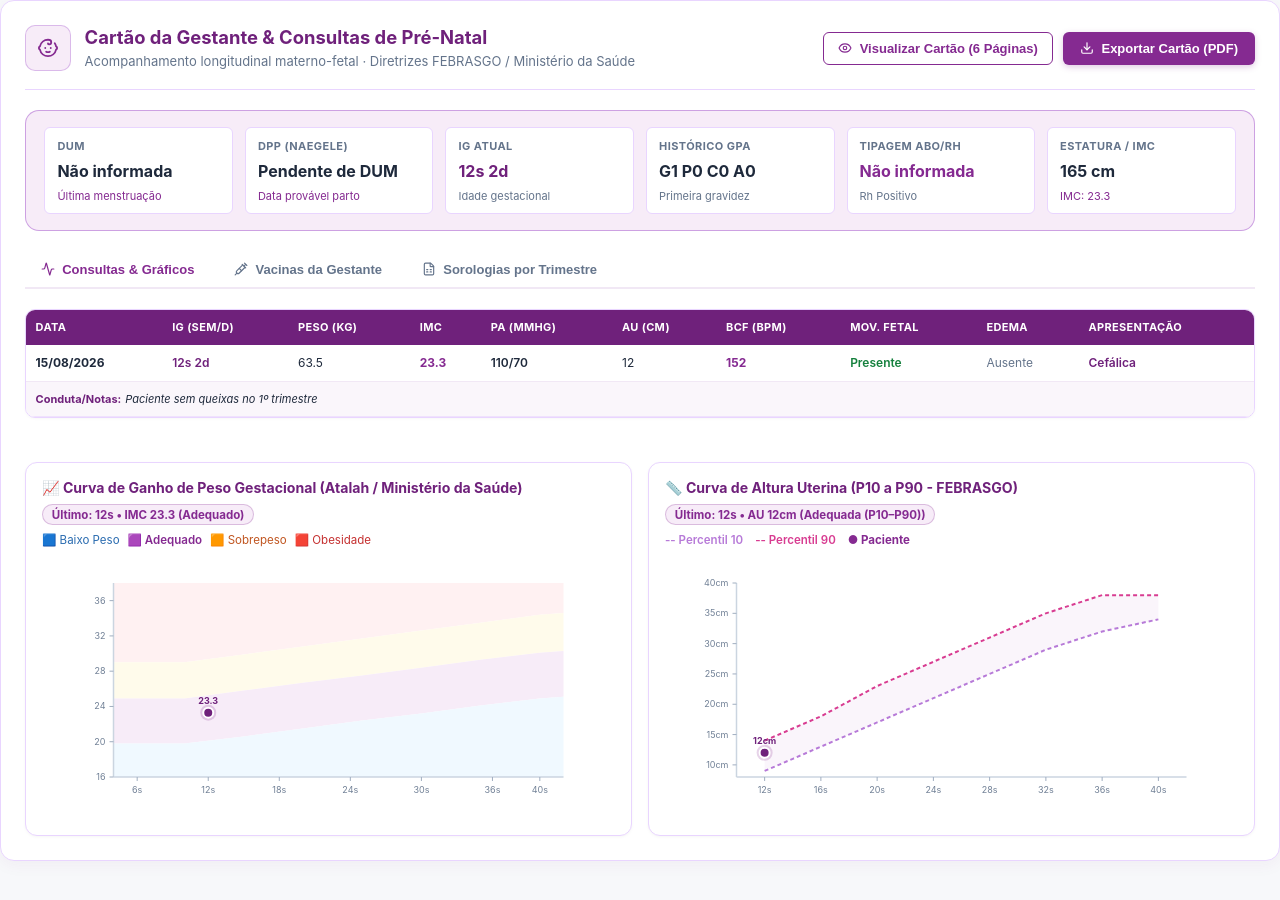
Scenario: PrenatalCardSection Component (SPEC-0035 / RN-007 / GO) › permite registrar novo exame complementar e editar resultados de exames na aba Sorologias
# Alterna para Sorologias
Click the button "Sorologias por Trimestre" at (510, 270), box [406,251,613,289]
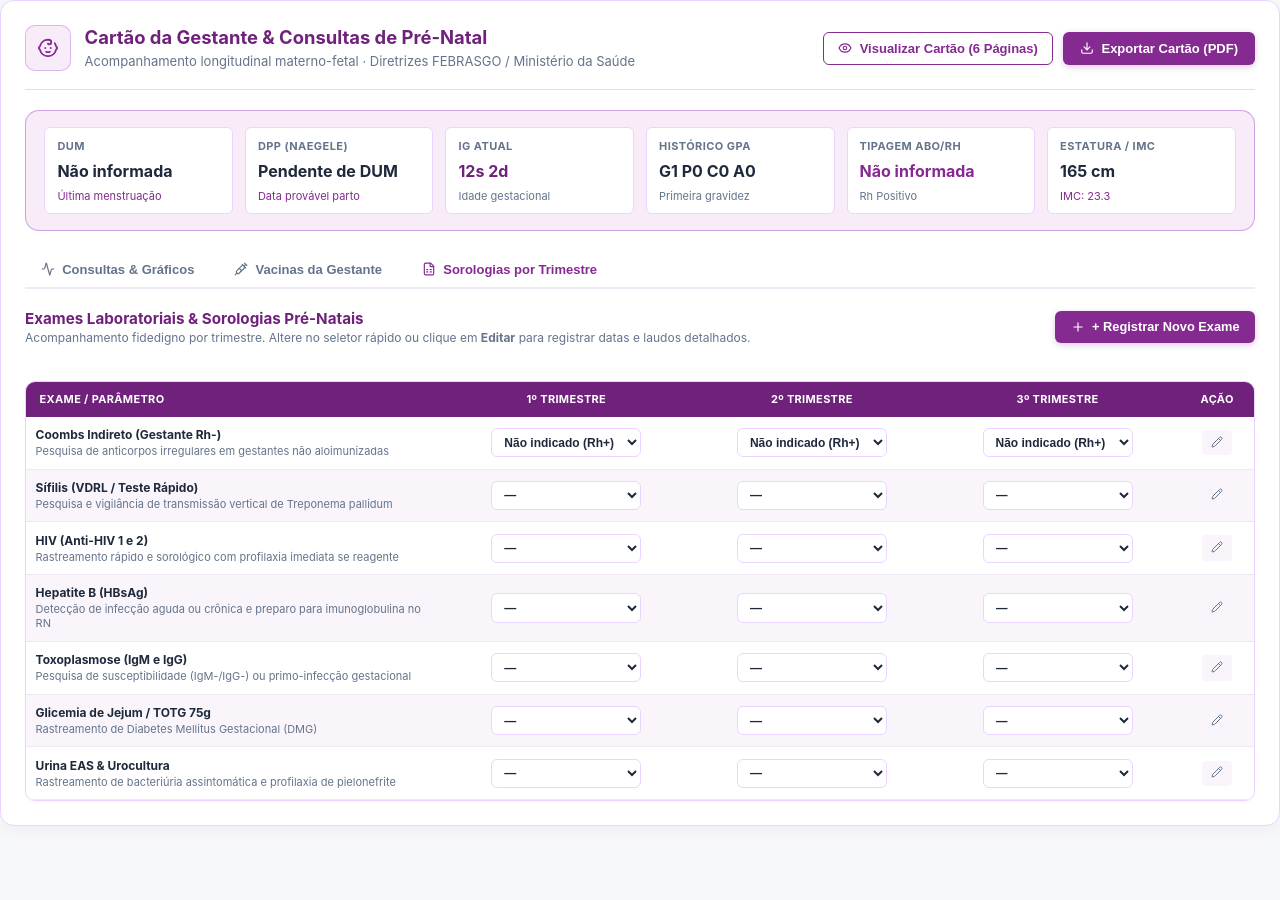
Check: the button "+ Registrar Novo Exame" is shown
Click the button "+ Registrar Novo Exame" at (1155, 327), box [1055,311,1255,343]
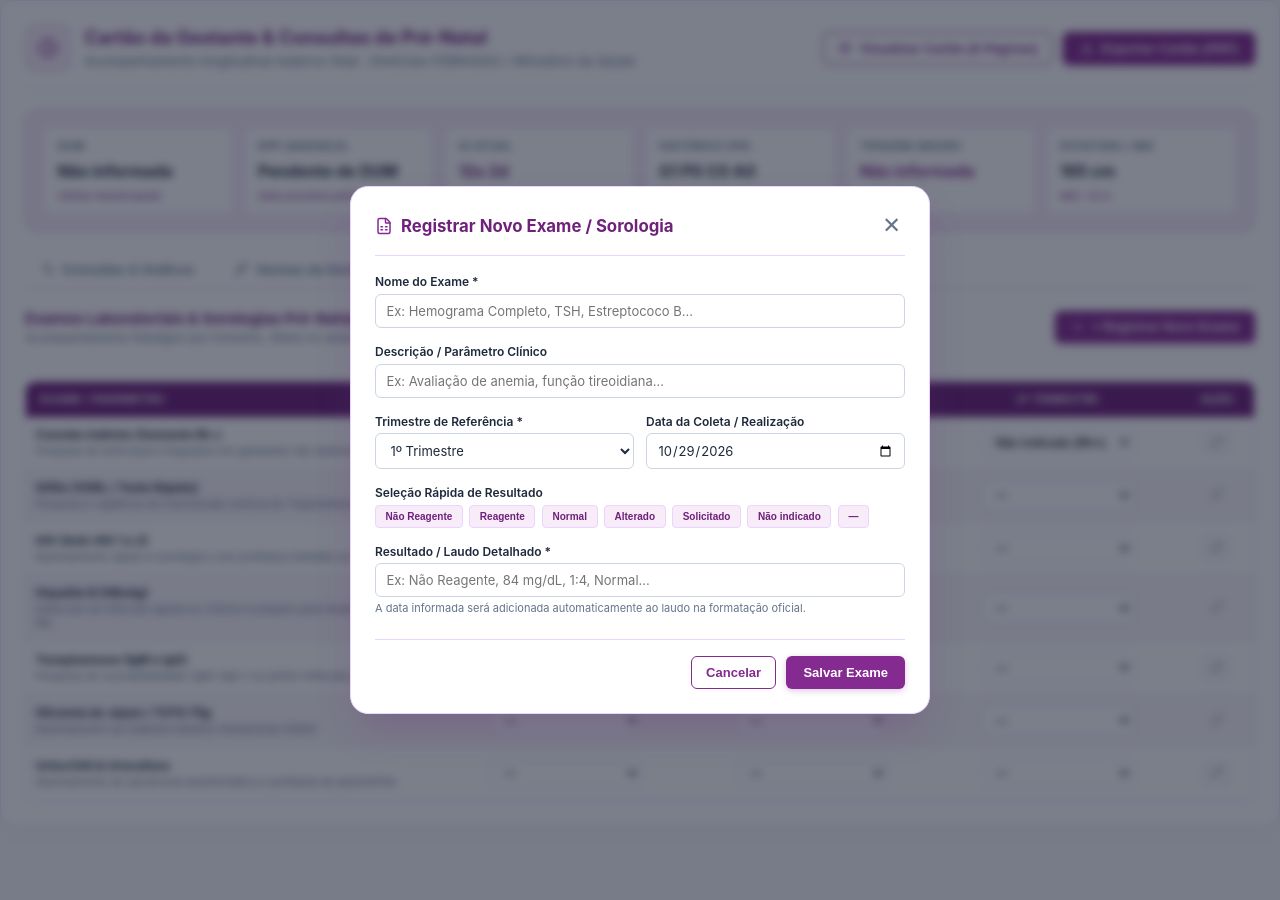
Check: the heading "Registrar Novo Exame / Sorologia" is shown, box [375,216,674,236]
# Preenche novo exame
Type "Hemograma e Ferritina" into the field with placeholder "Ex: Hemograma Completo, TSH, Estreptococo B..." at (640, 311), box [375,294,905,328]
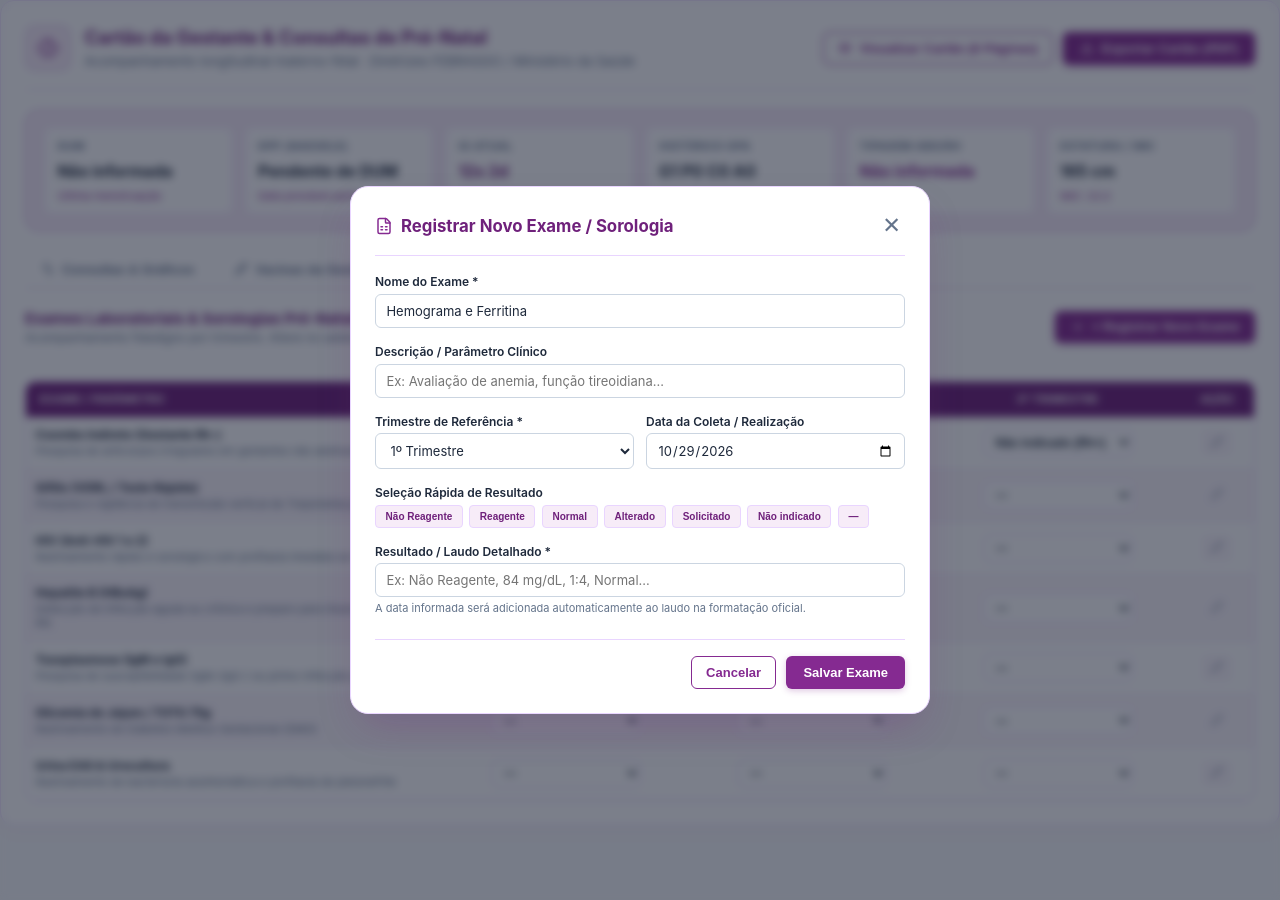
# Clica no chip rápido "Normal"
Click the button "Normal" at (570, 516), box [542,505,598,528]
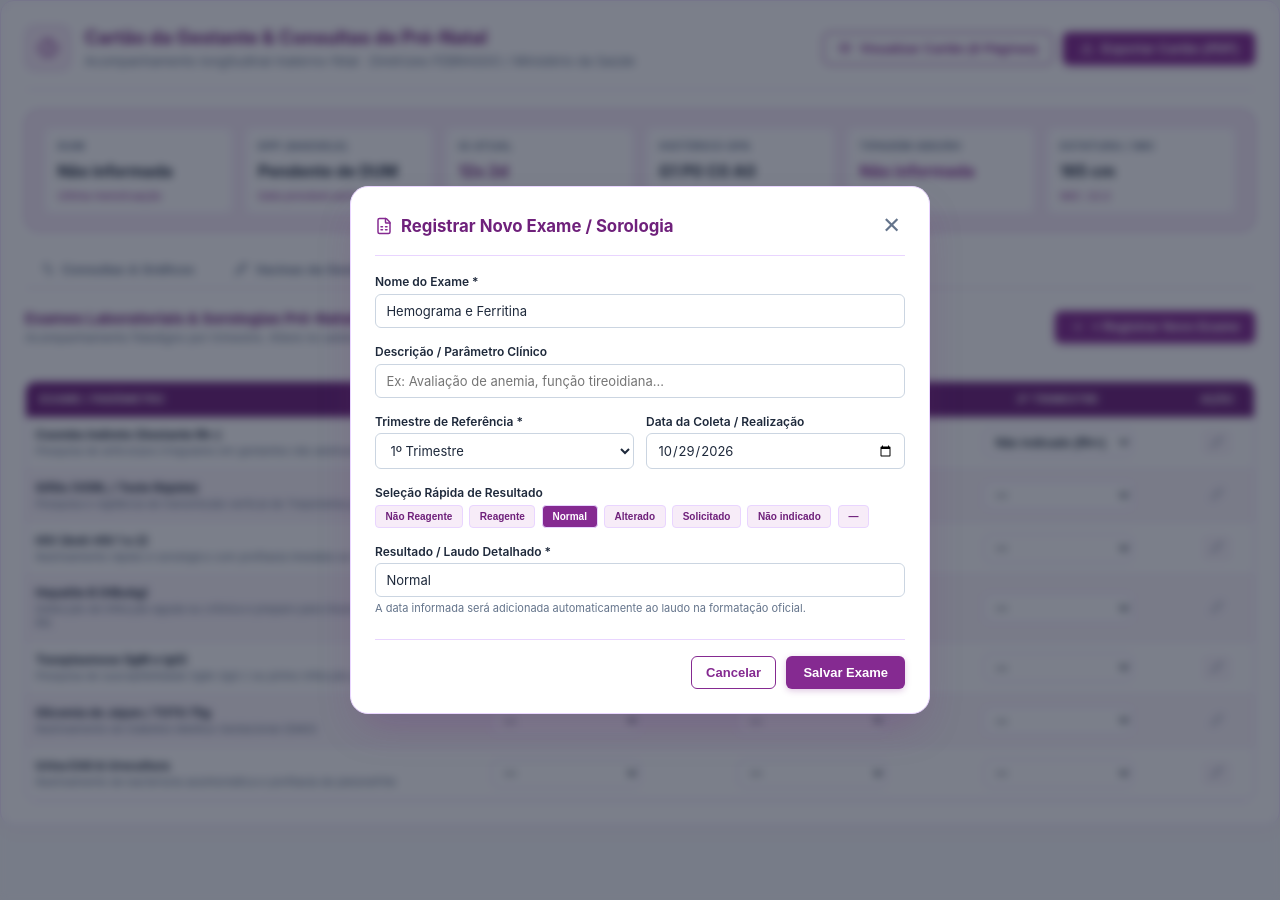
Click the button "Salvar Exame" at (846, 673), box [786,656,905,690]
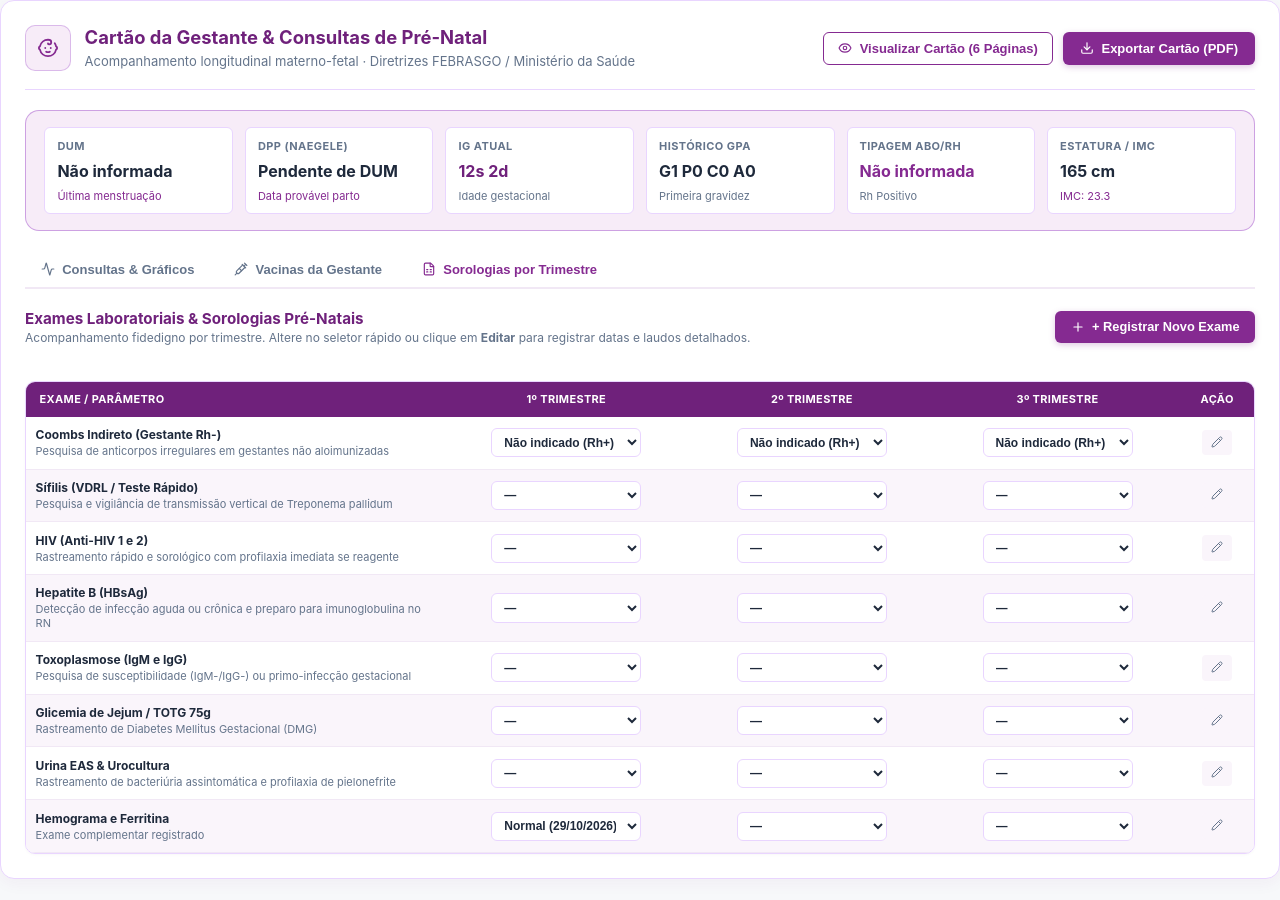
Check: the text "Hemograma e Ferritina" is shown, box [36,811,169,826]
